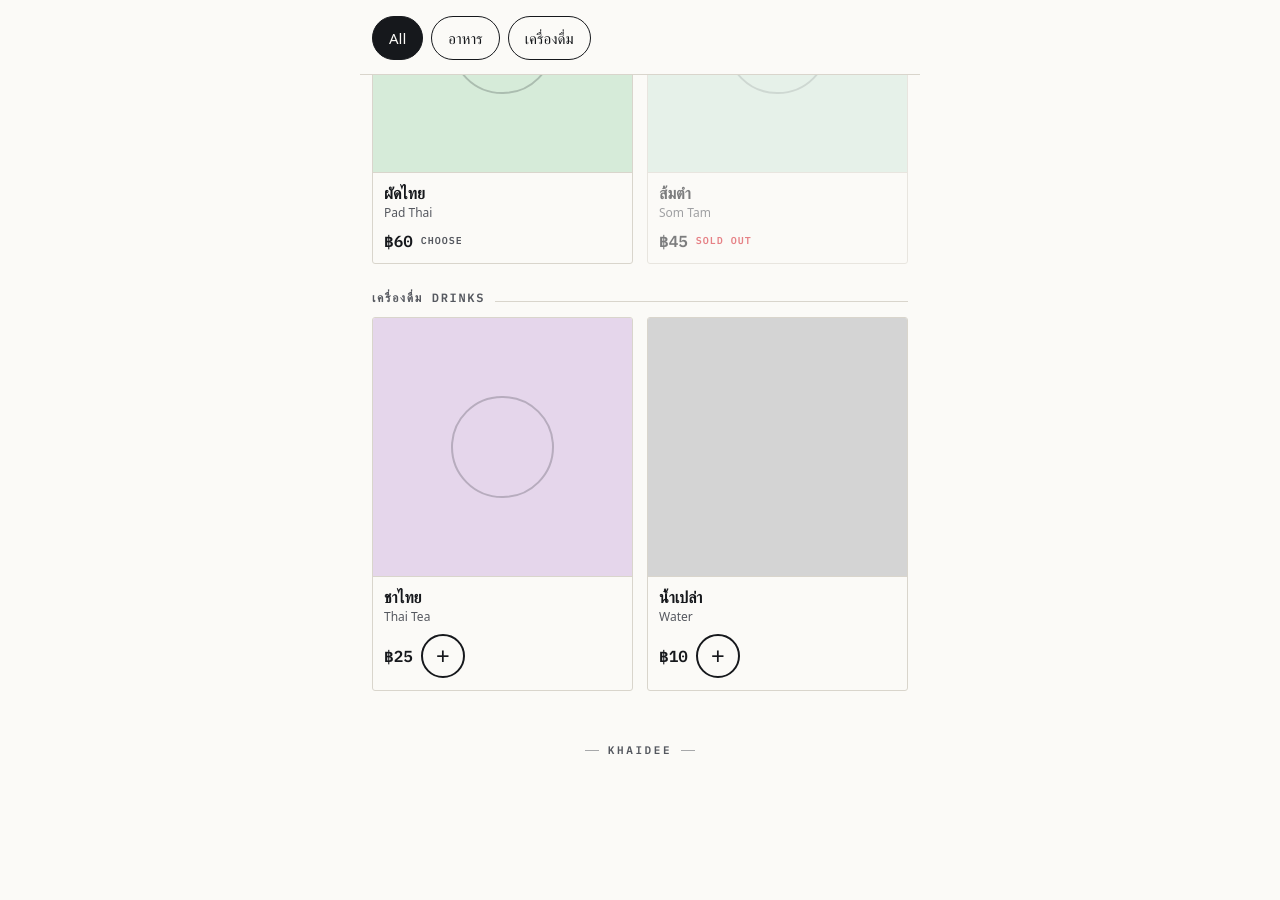
confirming the order › closes the review ticket when the last item is removed
(page scrolled)
Click the button with aria-label "Thai Tea, ฿25" at (502, 504), box [372,317,633,691]
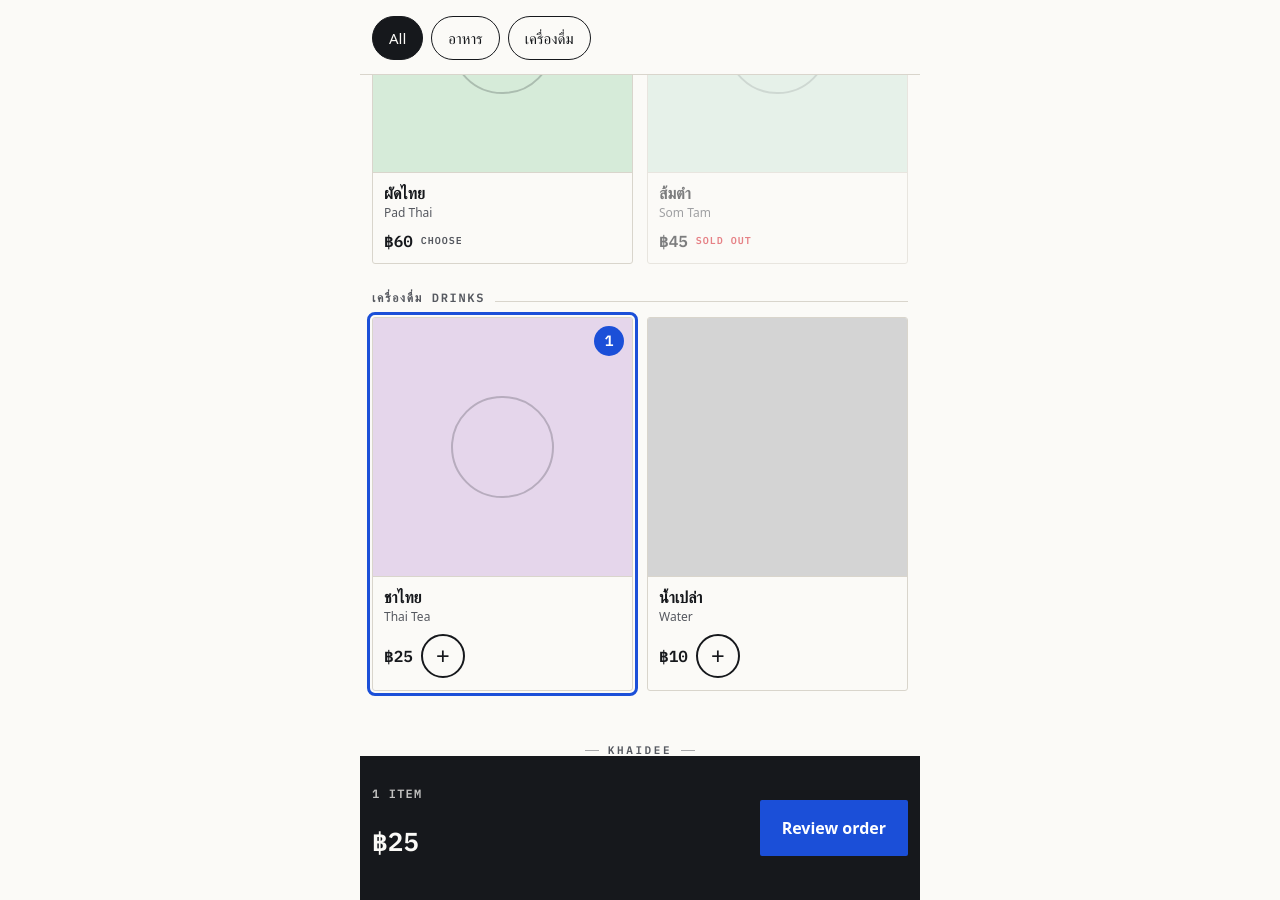
Click the button "Review order" at (834, 828), box [760,800,908,856]
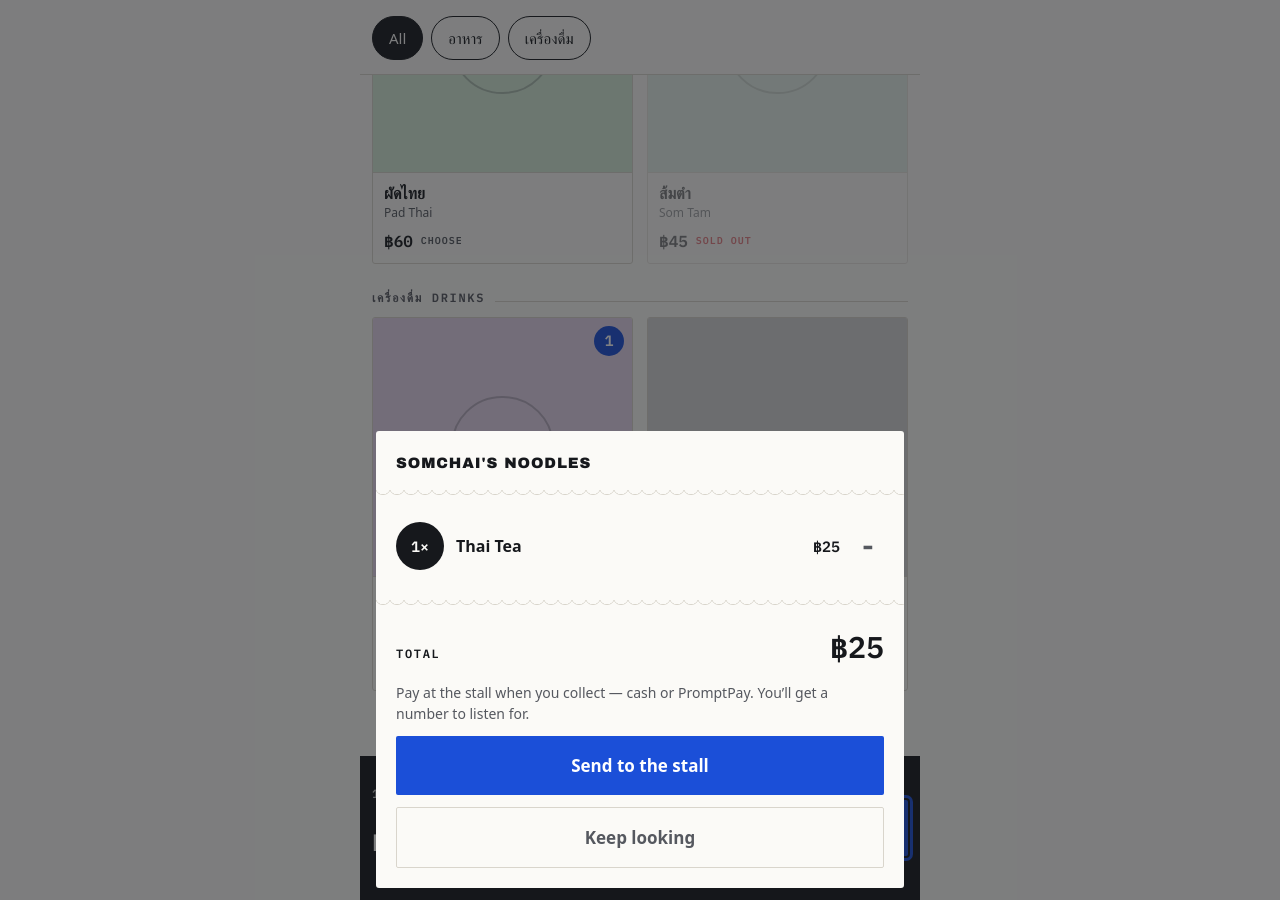
Click the button named "Remove one Thai Tea" at (868, 546), box [852,524,884,568]
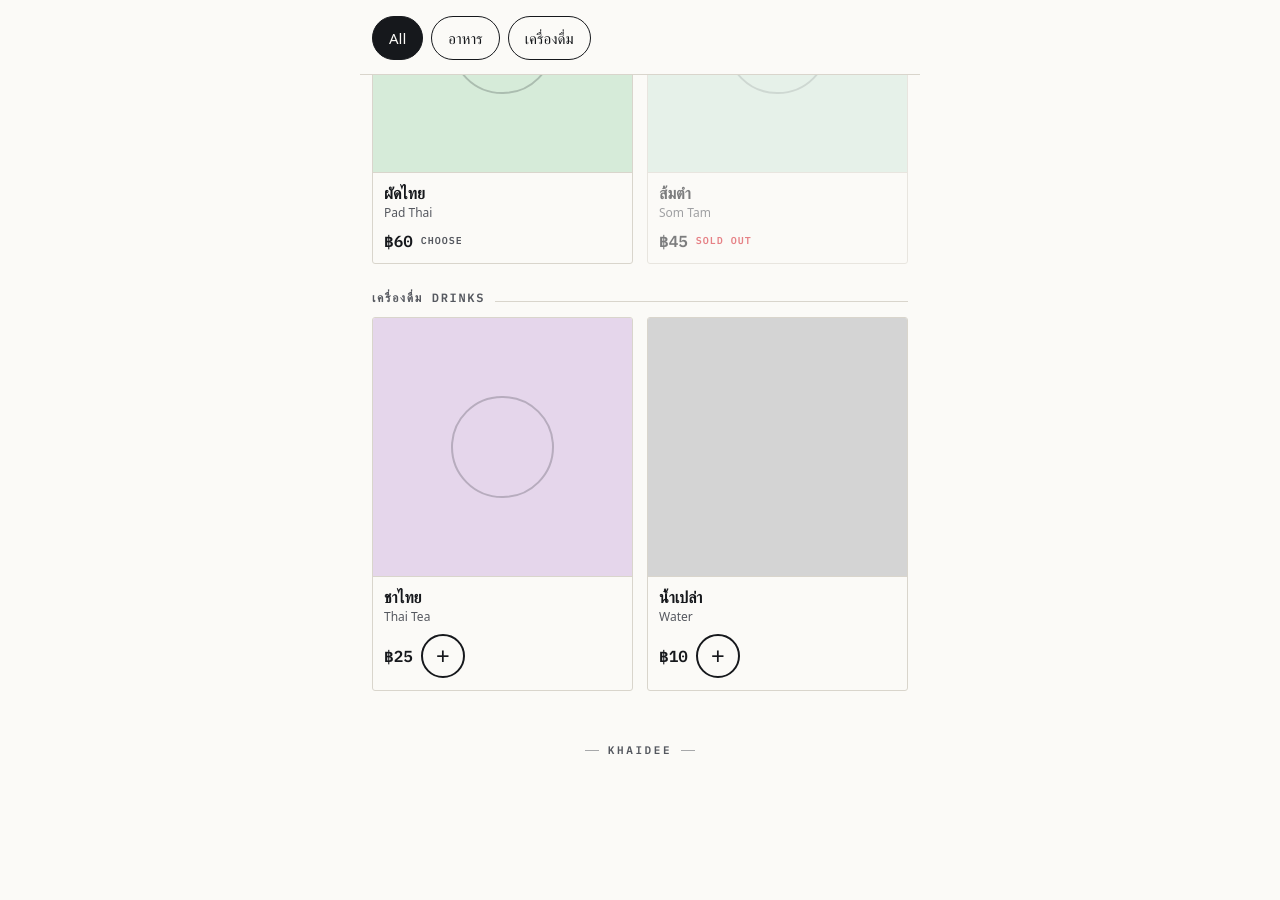
Result: the button "Review order" is gone
